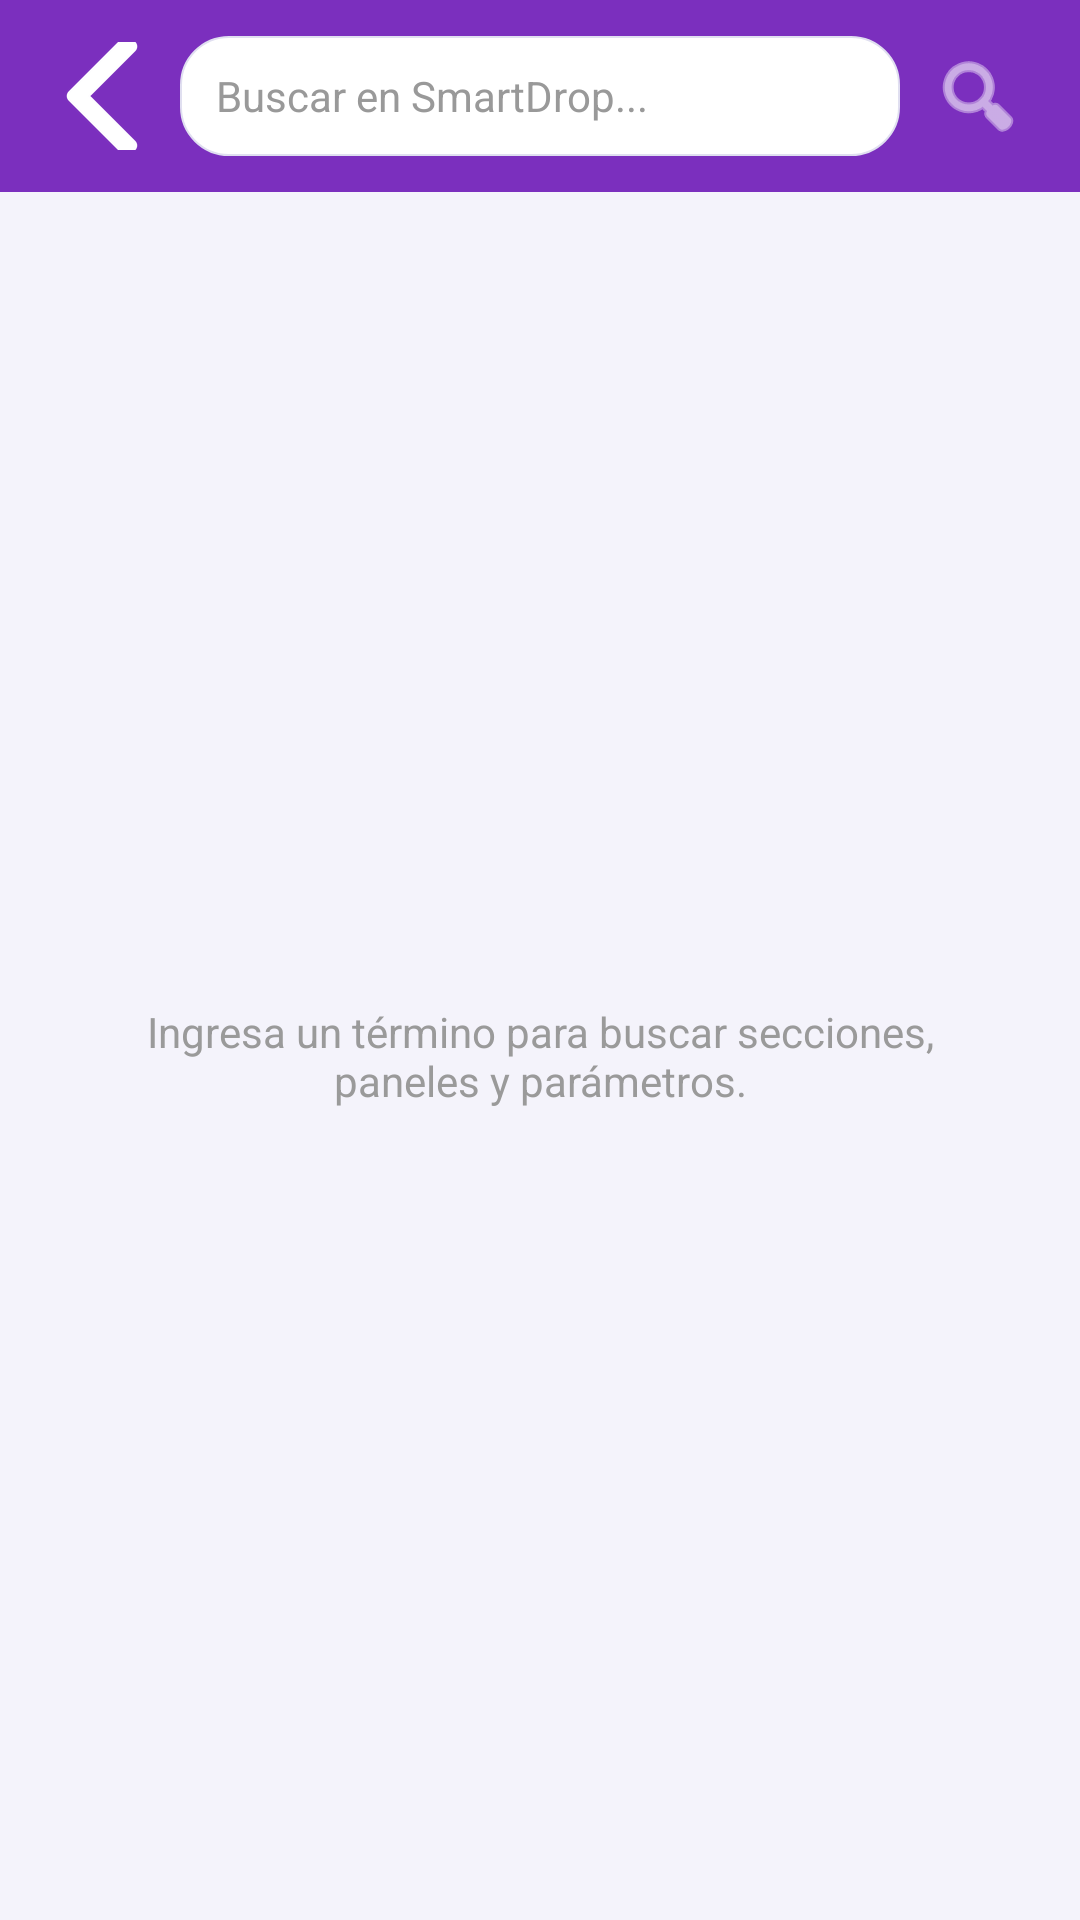

Locate icon controls on the screen. Image size 1080px×1920px, boxes as Rect(x1, y1, x2, y2).
Regresar: Rect(66, 42, 138, 150)
